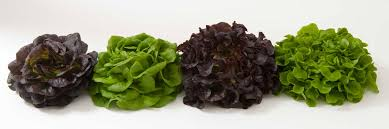lettuce: (97, 37, 180, 112)
